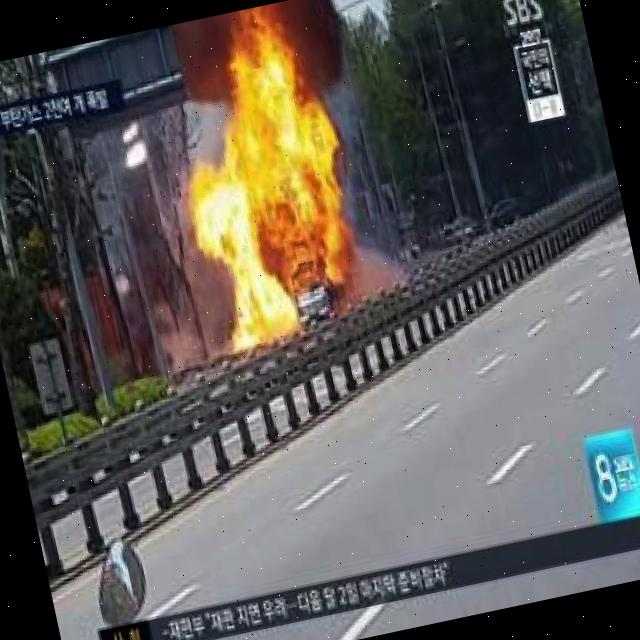fire: (181, 122, 367, 350), (215, 24, 312, 130)
